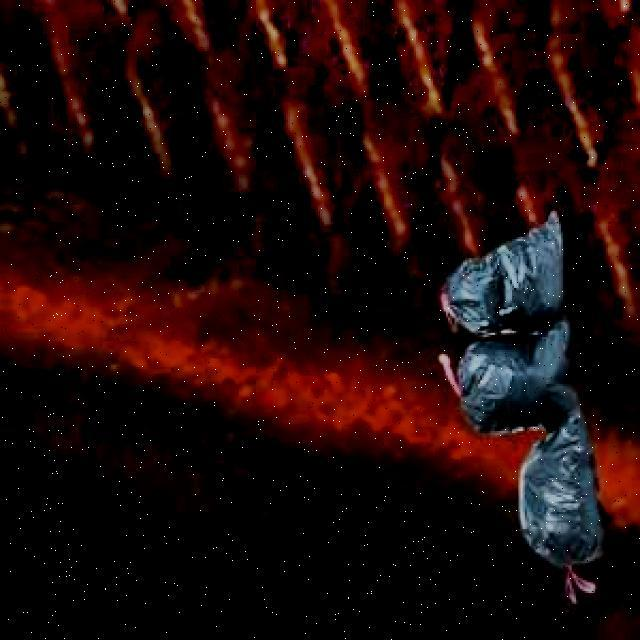Trashbag: (514, 416, 612, 566), (446, 215, 564, 335), (450, 326, 578, 433)
